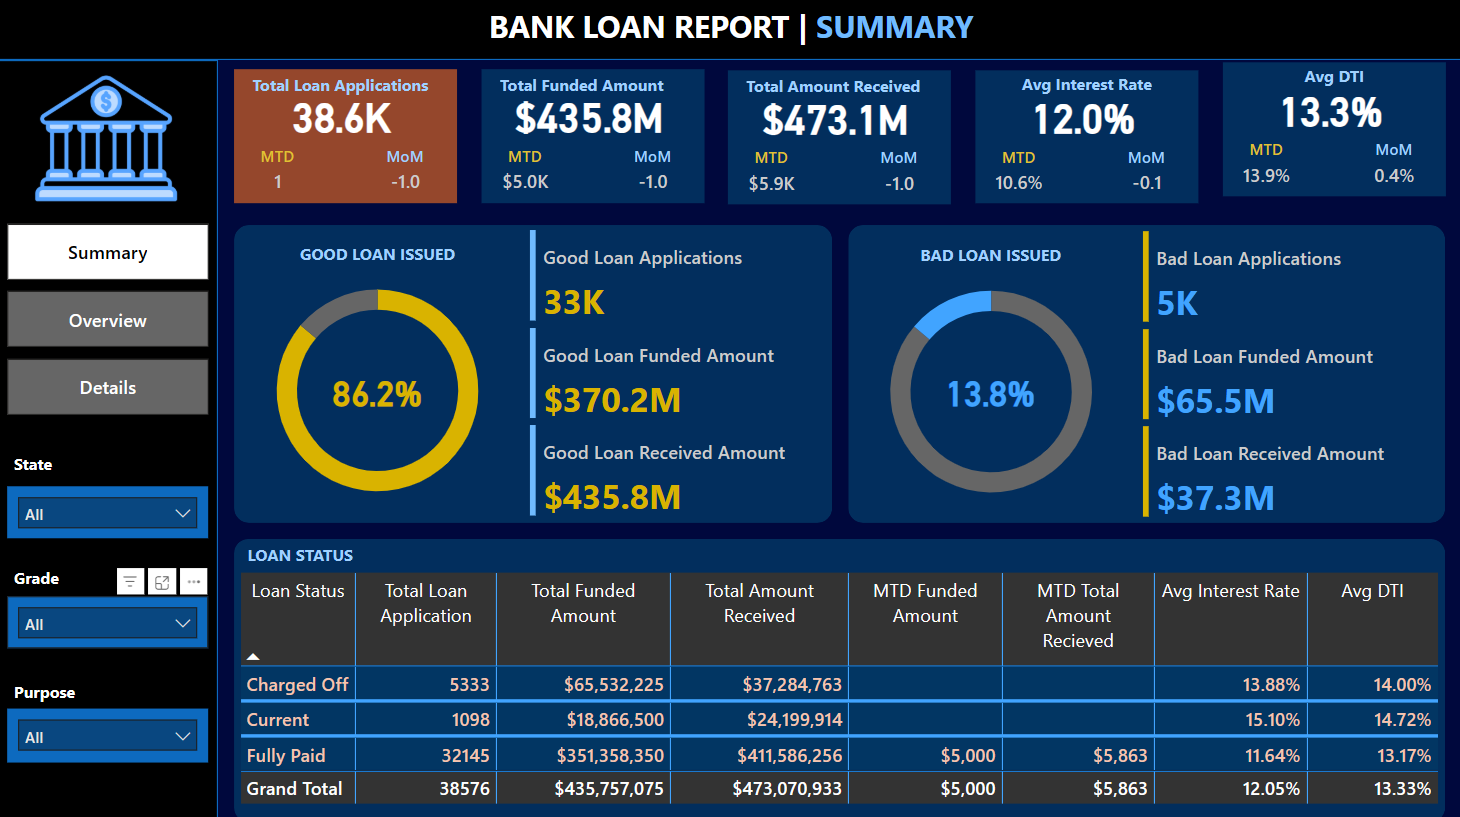

What the dashboard file says about the page in this screenshot:
{"tool":"powerbi","page":{"name":"Summary","canvas":[1280,720],"ordinal":0},"visuals":[{"type":"shape","box":[0,0,1280,54.7],"z":0},{"type":"shape","box":[1069,57.6,194.9,116.5],"z":0,"group":"g7"},{"type":"shape","box":[206.3,62.9,194.9,116.5],"z":0,"group":"g1"},{"type":"shape","box":[421.8,62.9,194.9,116.5],"z":0,"group":"g2"},{"type":"shape","box":[852.9,63.8,194.9,116.5],"z":0,"group":"g6"},{"type":"shape","box":[637.4,63.9,194.9,116.5],"z":0,"group":"g5"},{"type":"shape","box":[0,54.7,191.8,665.3],"z":1000},{"type":"card","fields":{"Values":["bank_loan_data.Avg DTI"]},"box":[1064.9,76.1,194.9,43.3],"z":1000,"group":"g7"},{"type":"card","fields":{"Values":["bank_loan_data.Total Loan Application"]},"box":[202.2,81.5,194.9,43.3],"z":1000,"group":"g1"},{"type":"card","fields":{"Values":["bank_loan_data.Total Funded Amount"]},"box":[417.7,81.5,194.9,43.3],"z":1000,"group":"g2"},{"type":"card","fields":{"Values":["bank_loan_data.Avg Interest Rate"]},"box":[848.8,82.4,194.9,43.3],"z":1000,"group":"g6"},{"type":"card","fields":{"Values":["bank_loan_data.Total Amount Received"]},"box":[633.3,82.5,194.9,43.3],"z":1000,"group":"g5"},{"type":"textbox","box":[1065.7,55.6,197,39.2],"z":2000,"group":"g7"},{"type":"textbox","box":[849.7,61.9,197,39.2],"z":2000,"group":"g6"},{"type":"textbox","box":[217.7,62.9,165,37.1],"z":2000,"group":"g1"},{"type":"textbox","box":[433.2,62.9,165,37.1],"z":2000,"group":"g2"},{"type":"textbox","box":[648.8,63.9,165,37.1],"z":2000,"group":"g5"},{"type":"shape","box":[206.3,199.1,521.9,259.9],"z":2000},{"type":"card","title":"MTD","fields":{"Values":["bank_loan_data.MTD Avg DTI"]},"box":[1080.3,124.6,53.6,49.5],"z":3000,"group":"g7"},{"type":"card","title":"MTD","fields":{"Values":["bank_loan_data.MTD Loan Applications"]},"box":[217.7,129.9,53.6,49.5],"z":3000,"group":"g1"},{"type":"card","title":"MTD","fields":{"Values":["bank_loan_data.MTD Funded Amount"]},"box":[433.2,129.9,53.6,49.5],"z":3000,"group":"g2"},{"type":"card","title":"MTD","fields":{"Values":["bank_loan_data.MTD Total Amount Recieved"]},"box":[648.8,130.9,53.6,49.5],"z":3000,"group":"g5"},{"type":"card","title":"MTD","fields":{"Values":["bank_loan_data.MTD Avg Int Rate"]},"box":[864.3,130.9,53.6,49.5],"z":3000,"group":"g6"},{"type":"card","fields":{"Values":["bank_loan_data.Good Loan %"]},"box":[264,322.8,133.1,43.3],"z":3000},{"type":"card","title":"MoM","fields":{"Values":["bank_loan_data.MoM Avg DTI"]},"box":[1191.7,124.6,53.6,49.5],"z":4000,"group":"g7"},{"type":"card","title":"MoM","fields":{"Values":["bank_loan_data.MoM Loan Applications"]},"box":[329.1,129.9,53.6,49.5],"z":4000,"group":"g1"},{"type":"card","title":"MoM","fields":{"Values":["bank_loan_data.MoM Total Funded Amount"]},"box":[544.6,129.9,53.6,49.5],"z":4000,"group":"g2"},{"type":"card","title":"MoM","fields":{"Values":["bank_loan_data.MoM Total Amount Received"]},"box":[760.2,130.9,53.6,49.5],"z":4000,"group":"g5"},{"type":"card","title":"MoM","fields":{"Values":["bank_loan_data.MoM Avg Int Rate"]},"box":[975.7,130.9,53.6,49.5],"z":4000,"group":"g6"},{"type":"textbox","box":[248.6,210.4,165,37.1],"z":4000},{"type":"textbox","box":[420.8,3.1,438.3,49.5],"z":5000},{"type":"group","id":"g1","title":"Group 2","box":[202.2,62.9,199.1,116.5],"z":5004,"group":"g3"},{"type":"group","id":"g2","title":"Group 2","box":[417.7,62.9,199.1,116.5],"z":5004,"group":"g4"},{"type":"group","id":"g3","title":"Group 1","box":[202.2,62.9,199.1,116.5],"z":6000},{"type":"shape","box":[206.4,473.2,1056.6,246.3],"z":7000},{"type":"group","id":"g4","title":"Group 1","box":[417.7,62.9,199.1,116.5],"z":8000},{"type":"group","id":"g5","title":"Group 2","box":[633.3,63.9,199.1,116.5],"z":9000},{"type":"group","id":"g6","title":"Group 2","box":[848.8,61.9,199.1,118.6],"z":10000},{"type":"group","id":"g7","title":"Group 2","box":[25,54.4,1238.9,139.2],"z":11000},{"type":"shape","box":[741.6,199.1,521.9,259.9],"z":12000},{"type":"donutChart","fields":{"Category":["bank_loan_data.Good vs Bad Loan"],"Y":["bank_loan_data.Total Loan Application"]},"box":[206.3,229,249.6,230],"z":13000},{"type":"cardVisual","fields":{"Data":["bank_loan_data.Good Loan Applications","bank_loan_data.Good Loan Funded Amount","bank_loan_data.Good Loan Received Amount"]},"box":[459,199.1,269.2,259.9],"z":14000},{"type":"donutChart","fields":{"Category":["bank_loan_data.Good vs Bad Loan"],"Y":["bank_loan_data.Total Loan Application"]},"box":[741.6,230,249.6,230],"z":15000},{"type":"textbox","box":[783.9,211.4,165,37.1],"z":16000},{"type":"card","fields":{"Values":["bank_loan_data.Bad Loan %"]},"box":[799.3,322.8,133.1,43.3],"z":17000},{"type":"cardVisual","fields":{"Data":["bank_loan_data.Bad Loan Applications","bank_loan_data.Bad Loan Funded Amount","bank_loan_data.Bad Loan Received Amount"]},"box":[994.3,200.1,269.2,259.9],"z":18000},{"type":"tableEx","fields":{"Values":["bank_loan_data.loan_status","bank_loan_data.Total Loan Application","bank_loan_data.Total Funded Amount","bank_loan_data.Total Amount Received","bank_loan_data.MTD Funded Amount","bank_loan_data.MTD Total Amount Recieved","bank_loan_data.Avg Interest Rate","bank_loan_data.Avg DTI"]},"box":[206.4,498.1,1055.5,221.5],"z":19000},{"type":"textbox","box":[212.8,473.2,176.1,37.8],"z":20000},{"type":"slicer","fields":{"Values":["bank_loan_data.address_state"]},"box":[7.6,426.8,176.1,46.5],"z":21000},{"type":"textbox","box":[8.6,394.3,60.5,32.4],"z":22000},{"type":"slicer","fields":{"Values":["bank_loan_data.grade"]},"box":[7.6,522.9,176.1,46.5],"z":23000},{"type":"slicer","fields":{"Values":["bank_loan_data.purpose"]},"box":[7.6,621.2,176.1,46.5],"z":24000},{"type":"textbox","box":[8.6,593.1,87.5,32.4],"z":25000},{"type":"textbox","box":[8.6,492.7,60.5,32.4],"z":26000},{"type":"image","box":[25,54.4,139.2,139.2],"z":26001,"group":"g7"},{"type":"pageNavigator","box":[8.3,198,175.3,168.1],"z":27000}]}

Visuals, with their boxes in screenshot pixels (x1, y1, x2, y2), scaled from the page's 1280x720 canvas onto the 1460x817 screenshot:
shape: <region>0, 0, 1459, 62</region>
shape: <region>1219, 65, 1442, 198</region>
shape: <region>235, 71, 458, 204</region>
shape: <region>481, 71, 703, 204</region>
shape: <region>973, 72, 1195, 205</region>
shape: <region>727, 73, 949, 205</region>
shape: <region>0, 62, 219, 816</region>
card - bank_loan_data.Avg DTI: <region>1215, 86, 1437, 135</region>
card - bank_loan_data.Total Loan Application: <region>231, 92, 453, 142</region>
card - bank_loan_data.Total Funded Amount: <region>476, 92, 699, 142</region>
card - bank_loan_data.Avg Interest Rate: <region>968, 94, 1190, 143</region>
card - bank_loan_data.Total Amount Received: <region>722, 94, 945, 143</region>
textbox: <region>1216, 63, 1440, 108</region>
textbox: <region>969, 70, 1194, 115</region>
textbox: <region>248, 71, 437, 113</region>
textbox: <region>494, 71, 682, 113</region>
textbox: <region>740, 73, 928, 115</region>
shape: <region>235, 226, 831, 521</region>
"MTD" card: <region>1232, 141, 1293, 198</region>
"MTD" card: <region>248, 147, 309, 204</region>
"MTD" card: <region>494, 147, 555, 204</region>
"MTD" card: <region>740, 149, 801, 205</region>
"MTD" card: <region>986, 149, 1047, 205</region>
card - bank_loan_data.Good Loan %: <region>301, 366, 453, 415</region>
"MoM" card: <region>1359, 141, 1420, 198</region>
"MoM" card: <region>375, 147, 437, 204</region>
"MoM" card: <region>621, 147, 682, 204</region>
"MoM" card: <region>867, 149, 928, 205</region>
"MoM" card: <region>1113, 149, 1174, 205</region>
textbox: <region>284, 239, 472, 281</region>
textbox: <region>480, 4, 980, 60</region>
"Group 2" group: <region>231, 71, 458, 204</region>
"Group 2" group: <region>476, 71, 704, 204</region>
"Group 1" group: <region>231, 71, 458, 204</region>
shape: <region>235, 537, 1441, 816</region>
"Group 1" group: <region>476, 71, 704, 204</region>
"Group 2" group: <region>722, 73, 949, 205</region>
"Group 2" group: <region>968, 70, 1195, 205</region>
"Group 2" group: <region>29, 62, 1442, 220</region>
shape: <region>846, 226, 1441, 521</region>
donutChart - bank_loan_data.Good vs Bad Loan x bank_loan_data.Total Loan Application: <region>235, 260, 520, 521</region>
cardVisual - bank_loan_data.Good Loan Applications x bank_loan_data.Good Loan Funded Amount: <region>524, 226, 831, 521</region>
donutChart - bank_loan_data.Good vs Bad Loan x bank_loan_data.Total Loan Application: <region>846, 261, 1131, 522</region>
textbox: <region>894, 240, 1082, 282</region>
card - bank_loan_data.Bad Loan %: <region>912, 366, 1064, 415</region>
cardVisual - bank_loan_data.Bad Loan Applications x bank_loan_data.Bad Loan Funded Amount: <region>1134, 227, 1441, 522</region>
tableEx - bank_loan_data.loan_status x bank_loan_data.Total Loan Application: <region>235, 565, 1439, 816</region>
textbox: <region>243, 537, 444, 580</region>
slicer - bank_loan_data.address_state: <region>9, 484, 210, 537</region>
textbox: <region>10, 447, 79, 484</region>
slicer - bank_loan_data.grade: <region>9, 593, 210, 646</region>
slicer - bank_loan_data.purpose: <region>9, 705, 210, 758</region>
textbox: <region>10, 673, 110, 710</region>
textbox: <region>10, 559, 79, 596</region>
image: <region>29, 62, 187, 220</region>
pageNavigator: <region>9, 225, 209, 415</region>
